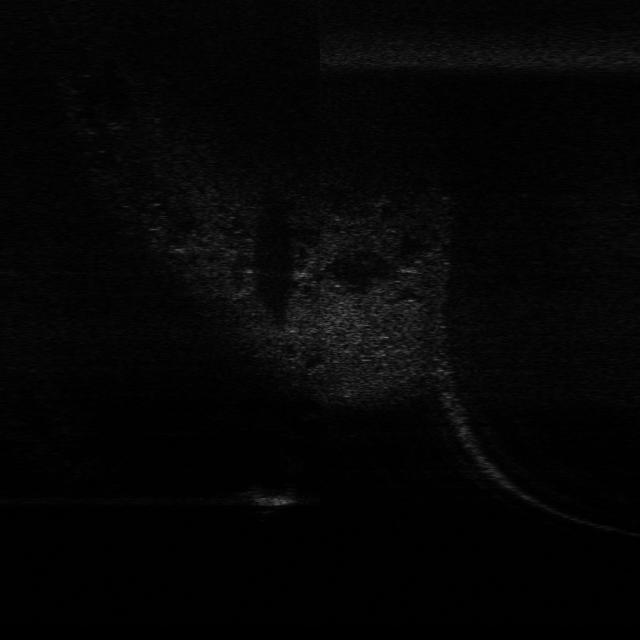cube: (240, 480, 302, 506)
